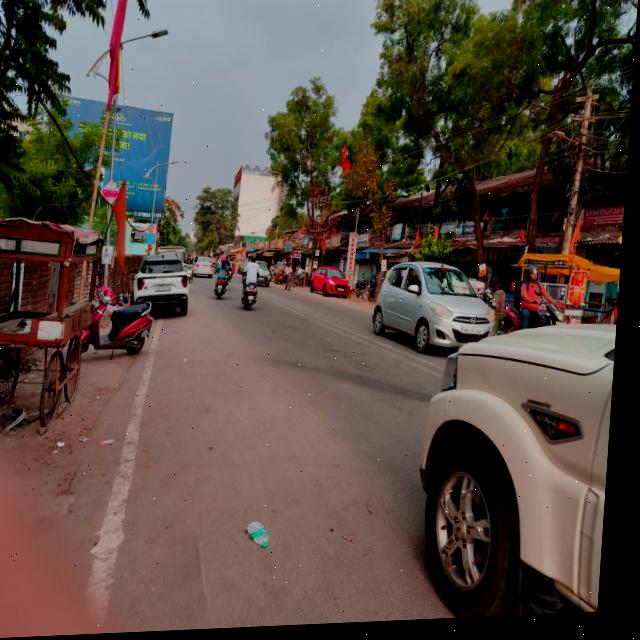bike: (88, 272, 162, 370), (507, 302, 570, 338), (245, 280, 264, 318), (217, 277, 232, 302), (286, 276, 299, 296), (190, 262, 200, 283)
car: (408, 294, 622, 625), (372, 241, 505, 362), (131, 252, 199, 322), (312, 265, 358, 311), (197, 258, 219, 281), (262, 263, 277, 290)
